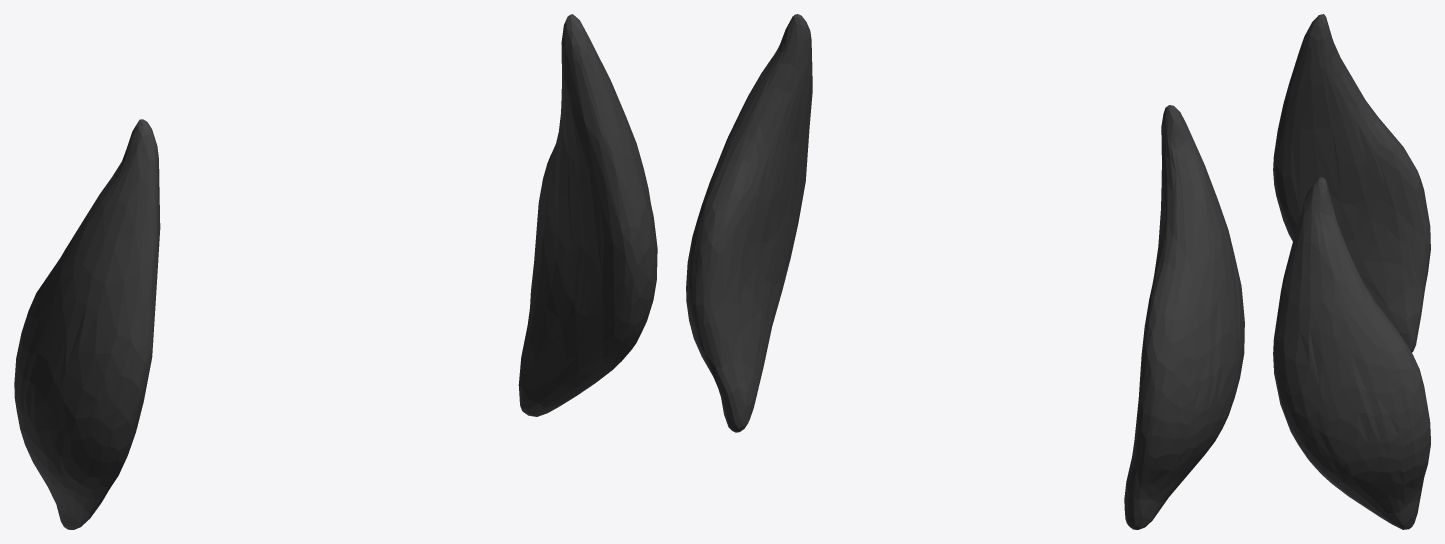
The model's file is m_quadriceps_vastus_lateralis.glb.
The picture shows the model from 3 angles, left to right: view 1: azimuth 30°, elevation 25°; view 2: azimuth 150°, elevation 25°; view 3: azimuth 270°, elevation 25°; orthographic projection. The views are drawn at different scales.
Parts seen in each view (by area): view 1: m_quadriceps_vastus_lateralis; view 2: m_quadriceps_vastus_lateralis; view 3: m_quadriceps_vastus_lateralis.
Part boxes in pixels (x1,y1,x2,y2): m_quadriceps_vastus_lateralis: (14,14,657,529); m_quadriceps_vastus_lateralis: (686,14,1244,529); m_quadriceps_vastus_lateralis: (1273,14,1430,529).
Size of the model in its own units: 0.00606 by 0.00429 by 0.00178.
Materials: 1 (1 with a texture image).
